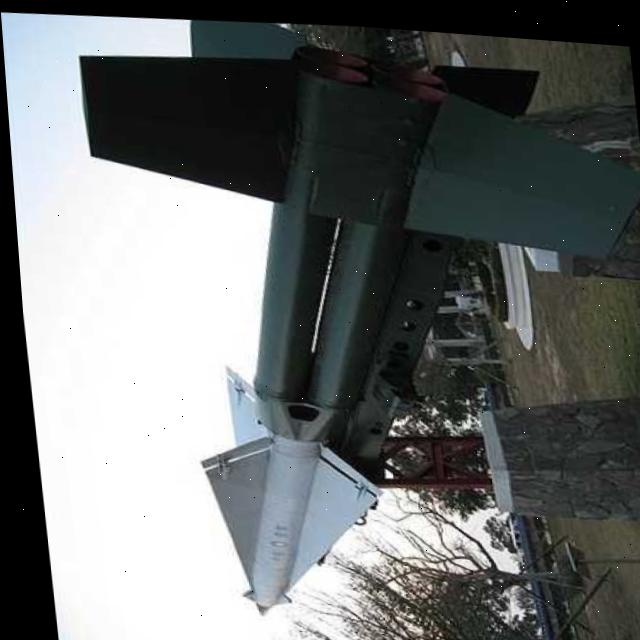missile: (184, 350, 389, 623)
